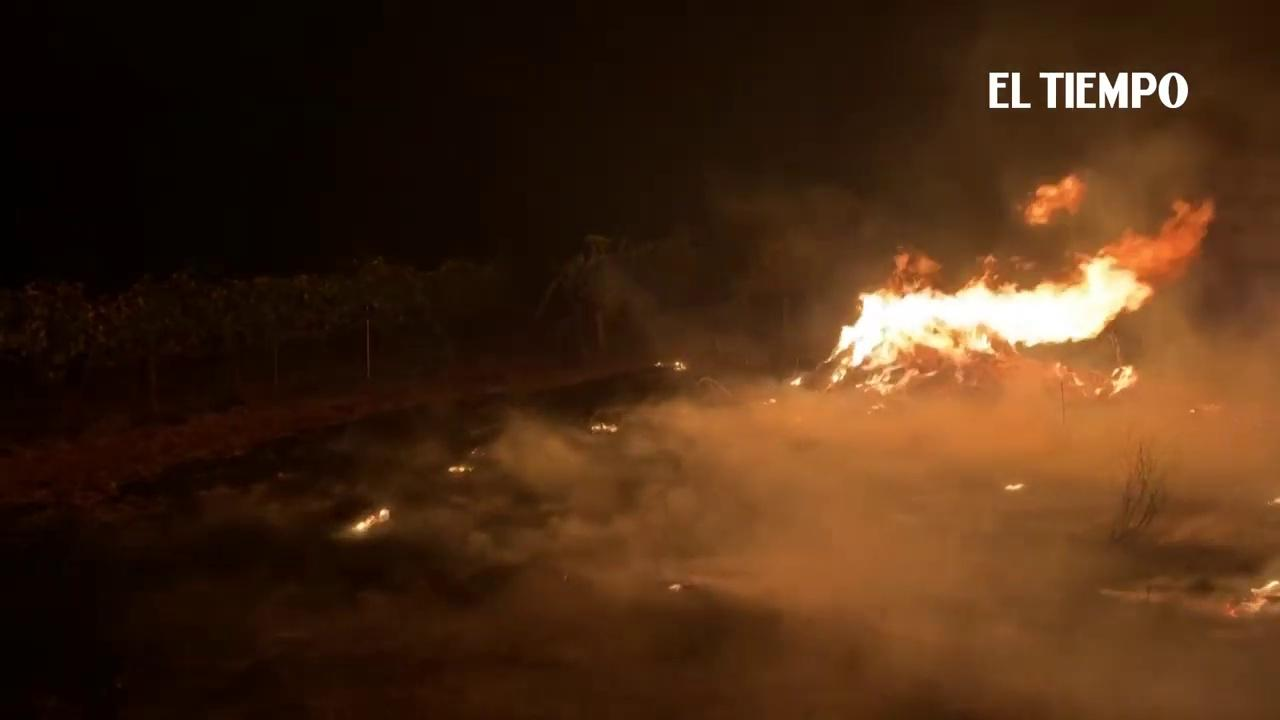Fire: (813, 168, 1216, 404), (1226, 574, 1279, 625), (353, 507, 395, 538), (591, 418, 619, 434), (445, 462, 478, 475), (1006, 478, 1030, 493), (673, 358, 687, 369), (790, 374, 801, 387)
